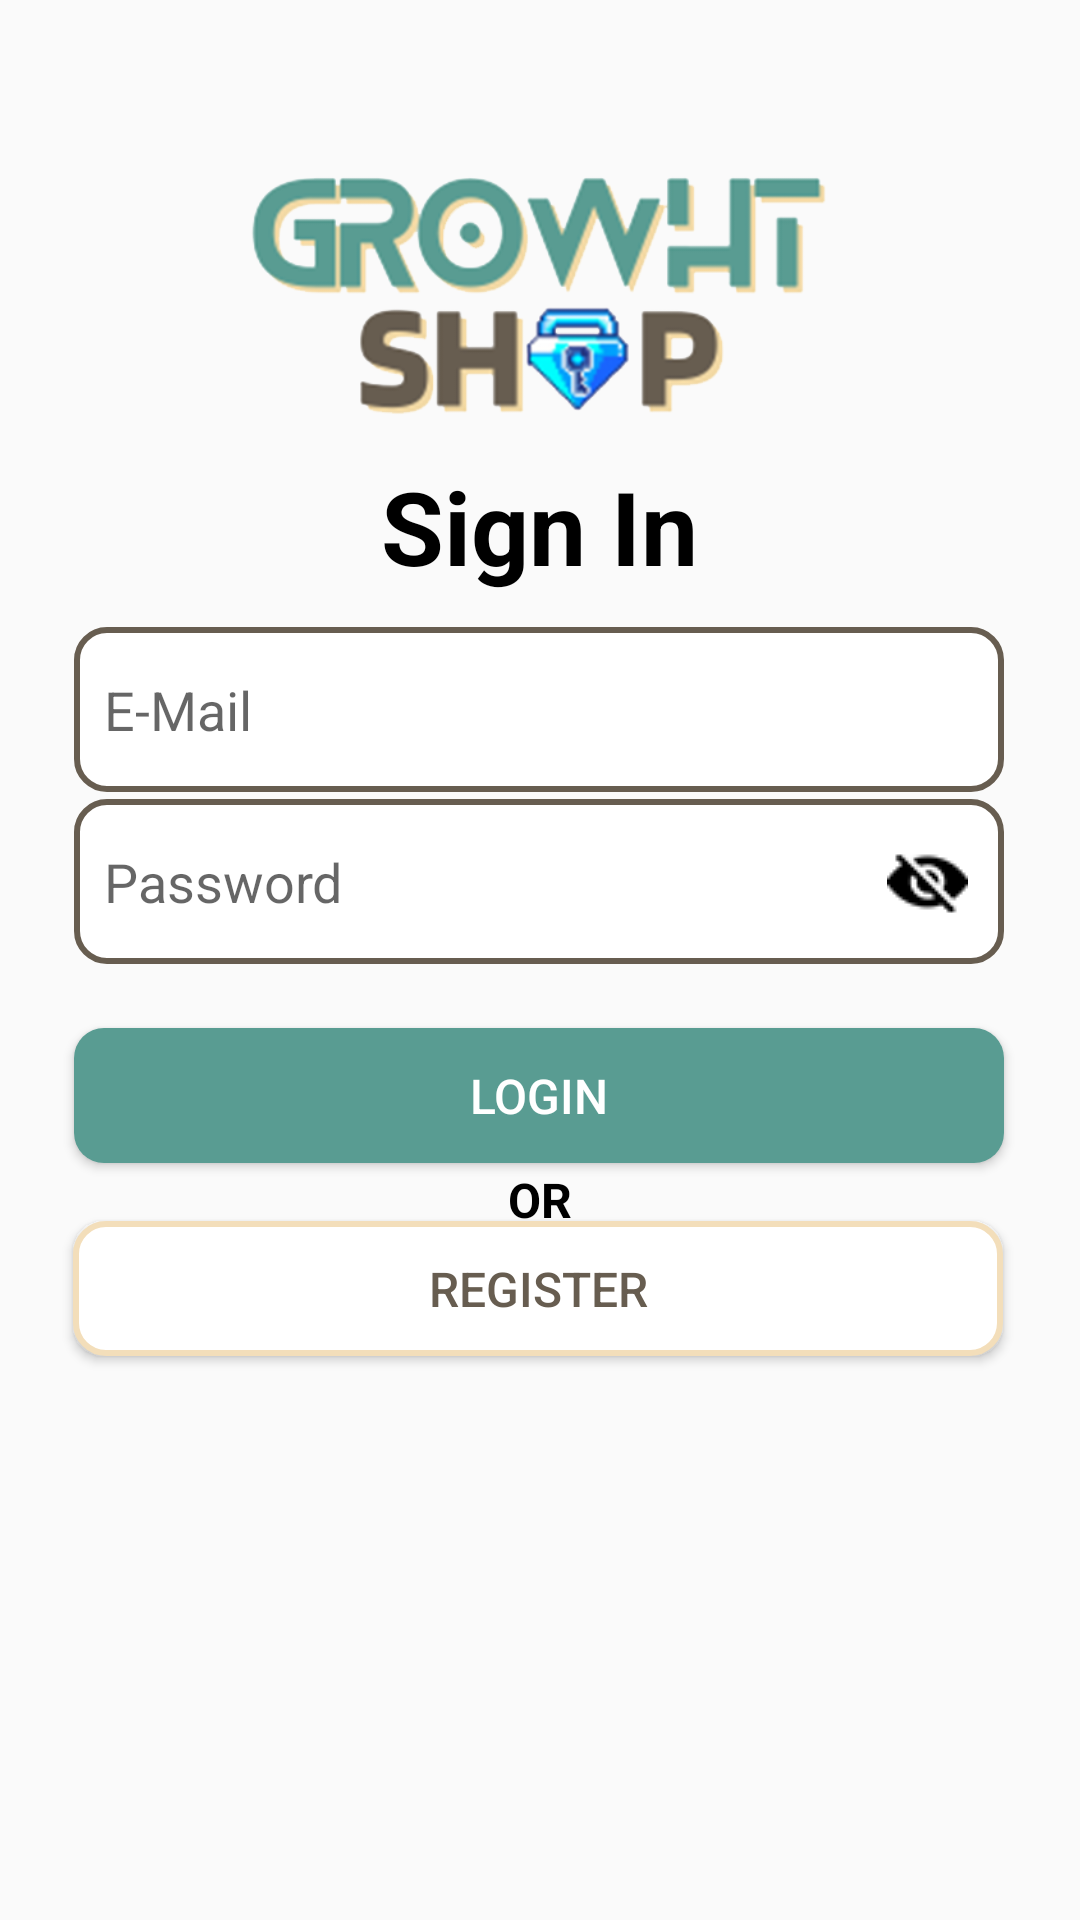

Where to tap for icons on this 1080*1920 app screen, as point (x, y):
hide: point (927, 883)
